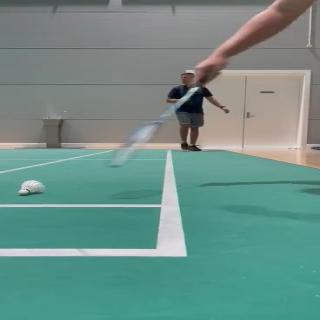Shuttle: (18, 180, 46, 195)
